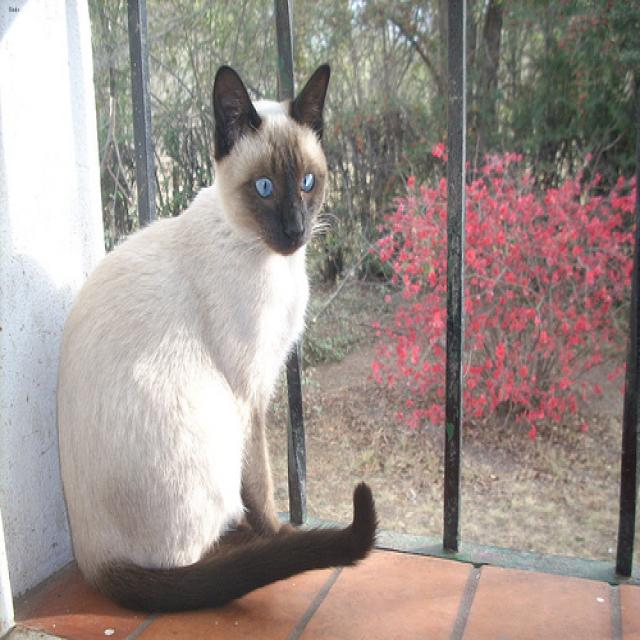cat: (210, 63, 328, 253)
